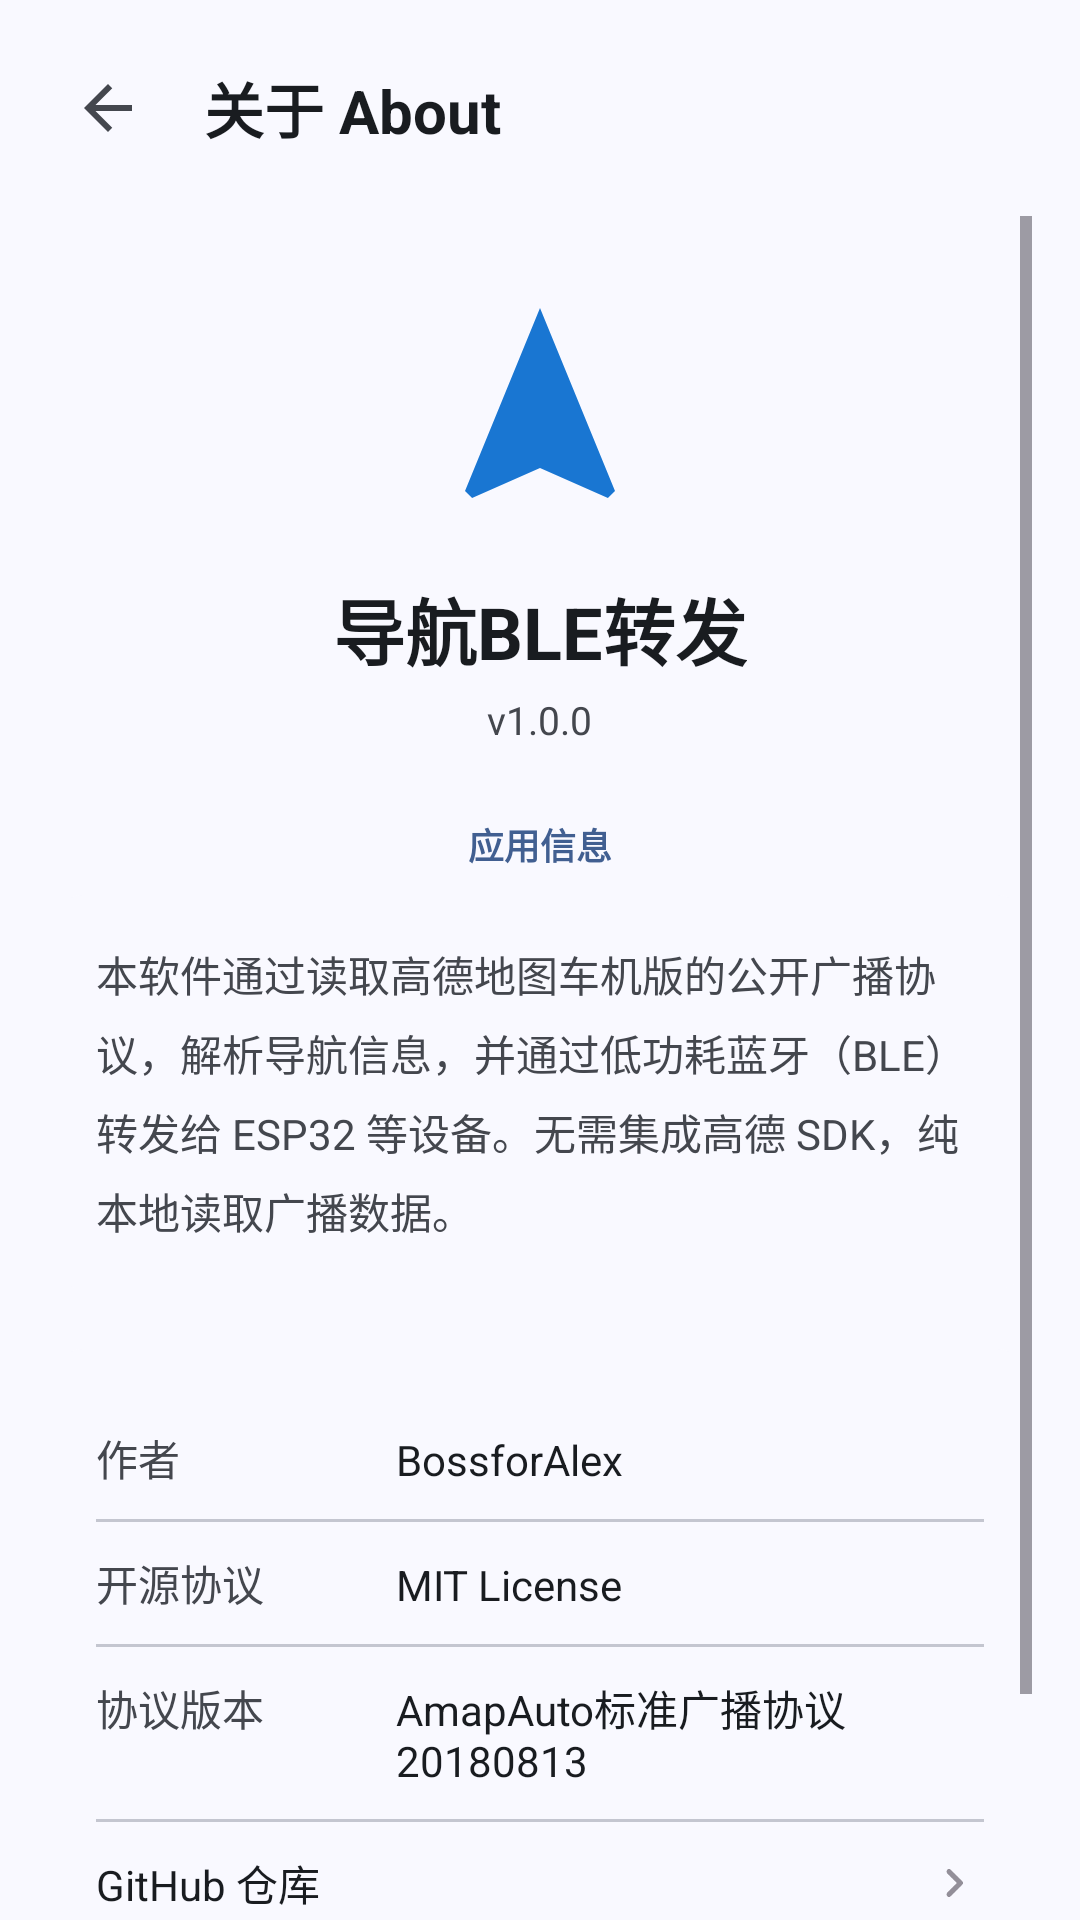

Icons on this 1080px x 1920px Android screen, each with its box as (x1, y1, x2, y2):
navigation: (465, 308, 615, 498)
返回: (84, 84, 132, 132)
